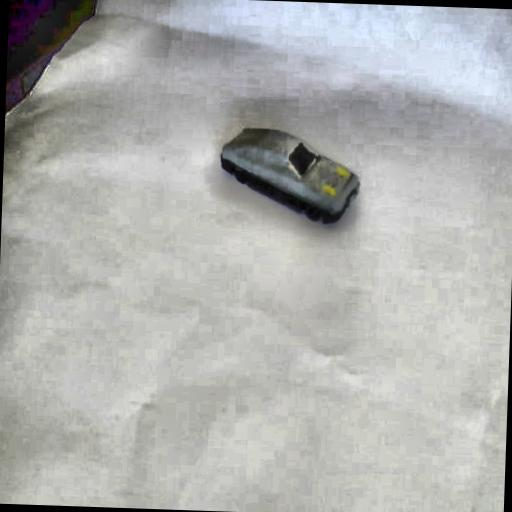normal_car: (216, 122, 361, 226)
